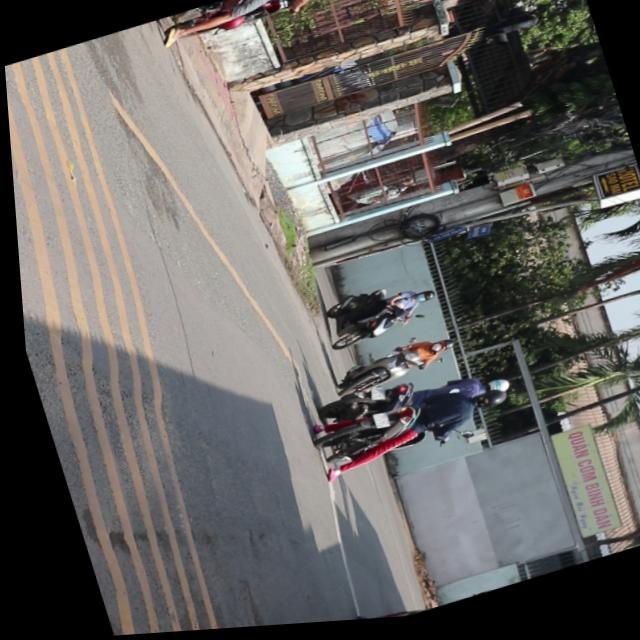helmet: (467, 391, 504, 416)
licenseplate: (299, 370, 518, 485), (148, 0, 375, 53), (340, 568, 542, 624)
nohelmet: (365, 415, 383, 433)
